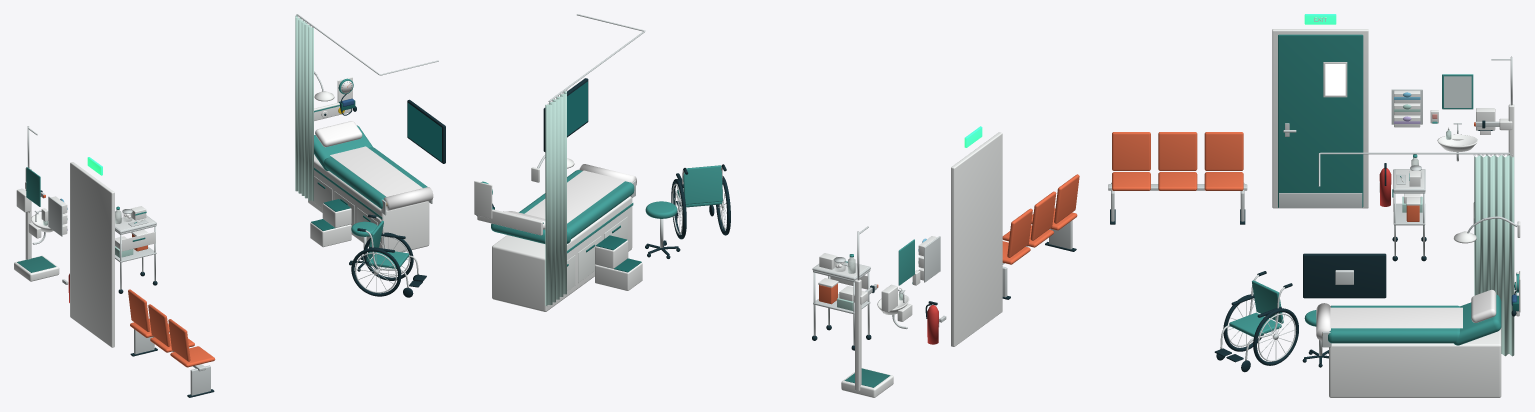
Rendered from ward.glb.
3 renders of one model, left to right at view 1: azimuth 30°, elevation 25°; view 2: azimuth 150°, elevation 25°; view 3: azimuth 270°, elevation 25°, orthographic. The views are drawn at different scales.
Visible parts, largest first — view 1: DoorFrame, Curtain, BedBase, PaperSheet, Mattress, TVFace, Pillow, Headrest, StepLow, PaperRoll, ChairBack0, ChairBack1 (+14 smaller); view 2: DoorFrame, BedBase, Curtain, PaperSheet, Mattress, WcBack, StepLow, GasRail, TVFace, ChairBack2, ChairBack0, ChairBack1 (+7 smaller); view 3: DoorPanel, BedBase, Curtain, TVBody, PaperSheet, DoorFrame, Mattress, ChairBack2, ChairBack1, ChairBack0, DoorKick, Headrest (+14 smaller).
Boxes of the visible parts, x1=… form: DoorFrame: x1=70, y1=162, x2=114, y2=347; Curtain: x1=295, y1=15, x2=313, y2=201; BedBase: x1=308, y1=155, x2=429, y2=252; PaperSheet: x1=330, y1=146, x2=422, y2=196; Mattress: x1=324, y1=147, x2=427, y2=208; TVFace: x1=407, y1=103, x2=441, y2=161; Pillow: x1=315, y1=121, x2=362, y2=147; Headrest: x1=314, y1=125, x2=372, y2=170; StepLow: x1=310, y1=222, x2=351, y2=247; PaperRoll: x1=383, y1=187, x2=433, y2=210; ChairBack0: x1=168, y1=319, x2=190, y2=361; ChairBack1: x1=148, y1=304, x2=170, y2=346; DoorFrame: x1=951, y1=132, x2=1002, y2=346; BedBase: x1=492, y1=196, x2=632, y2=311; Curtain: x1=545, y1=91, x2=566, y2=305; PaperSheet: x1=524, y1=170, x2=625, y2=223; Mattress: x1=519, y1=170, x2=634, y2=238; WcBack: x1=683, y1=165, x2=722, y2=204; StepLow: x1=595, y1=262, x2=642, y2=290; GasRail: x1=477, y1=209, x2=542, y2=235; TVFace: x1=567, y1=81, x2=587, y2=135; ChairBack2: x1=1007, y1=208, x2=1032, y2=257; ChairBack0: x1=1054, y1=174, x2=1079, y2=223; ChairBack1: x1=1030, y1=191, x2=1056, y2=240; DoorPanel: x1=1278, y1=34, x2=1363, y2=207; BedBase: x1=1329, y1=328, x2=1501, y2=397; Curtain: x1=1474, y1=155, x2=1514, y2=356; TVBody: x1=1303, y1=253, x2=1386, y2=298; PaperSheet: x1=1330, y1=307, x2=1462, y2=328; DoorFrame: x1=1272, y1=29, x2=1368, y2=208; Mattress: x1=1328, y1=305, x2=1459, y2=343; ChairBack2: x1=1204, y1=132, x2=1243, y2=170; ChairBack1: x1=1158, y1=132, x2=1197, y2=170; ChairBack0: x1=1112, y1=132, x2=1150, y2=170; DoorKick: x1=1279, y1=193, x2=1362, y2=208; Headrest: x1=1454, y1=294, x2=1501, y2=345.
Size of the model in its own units: 50.15 by 25.87 by 44.49.
